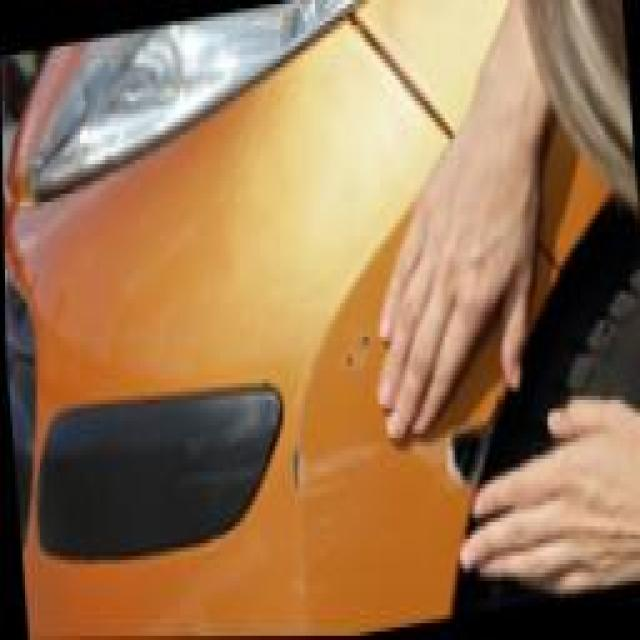Bumper: (218, 349, 526, 635)
